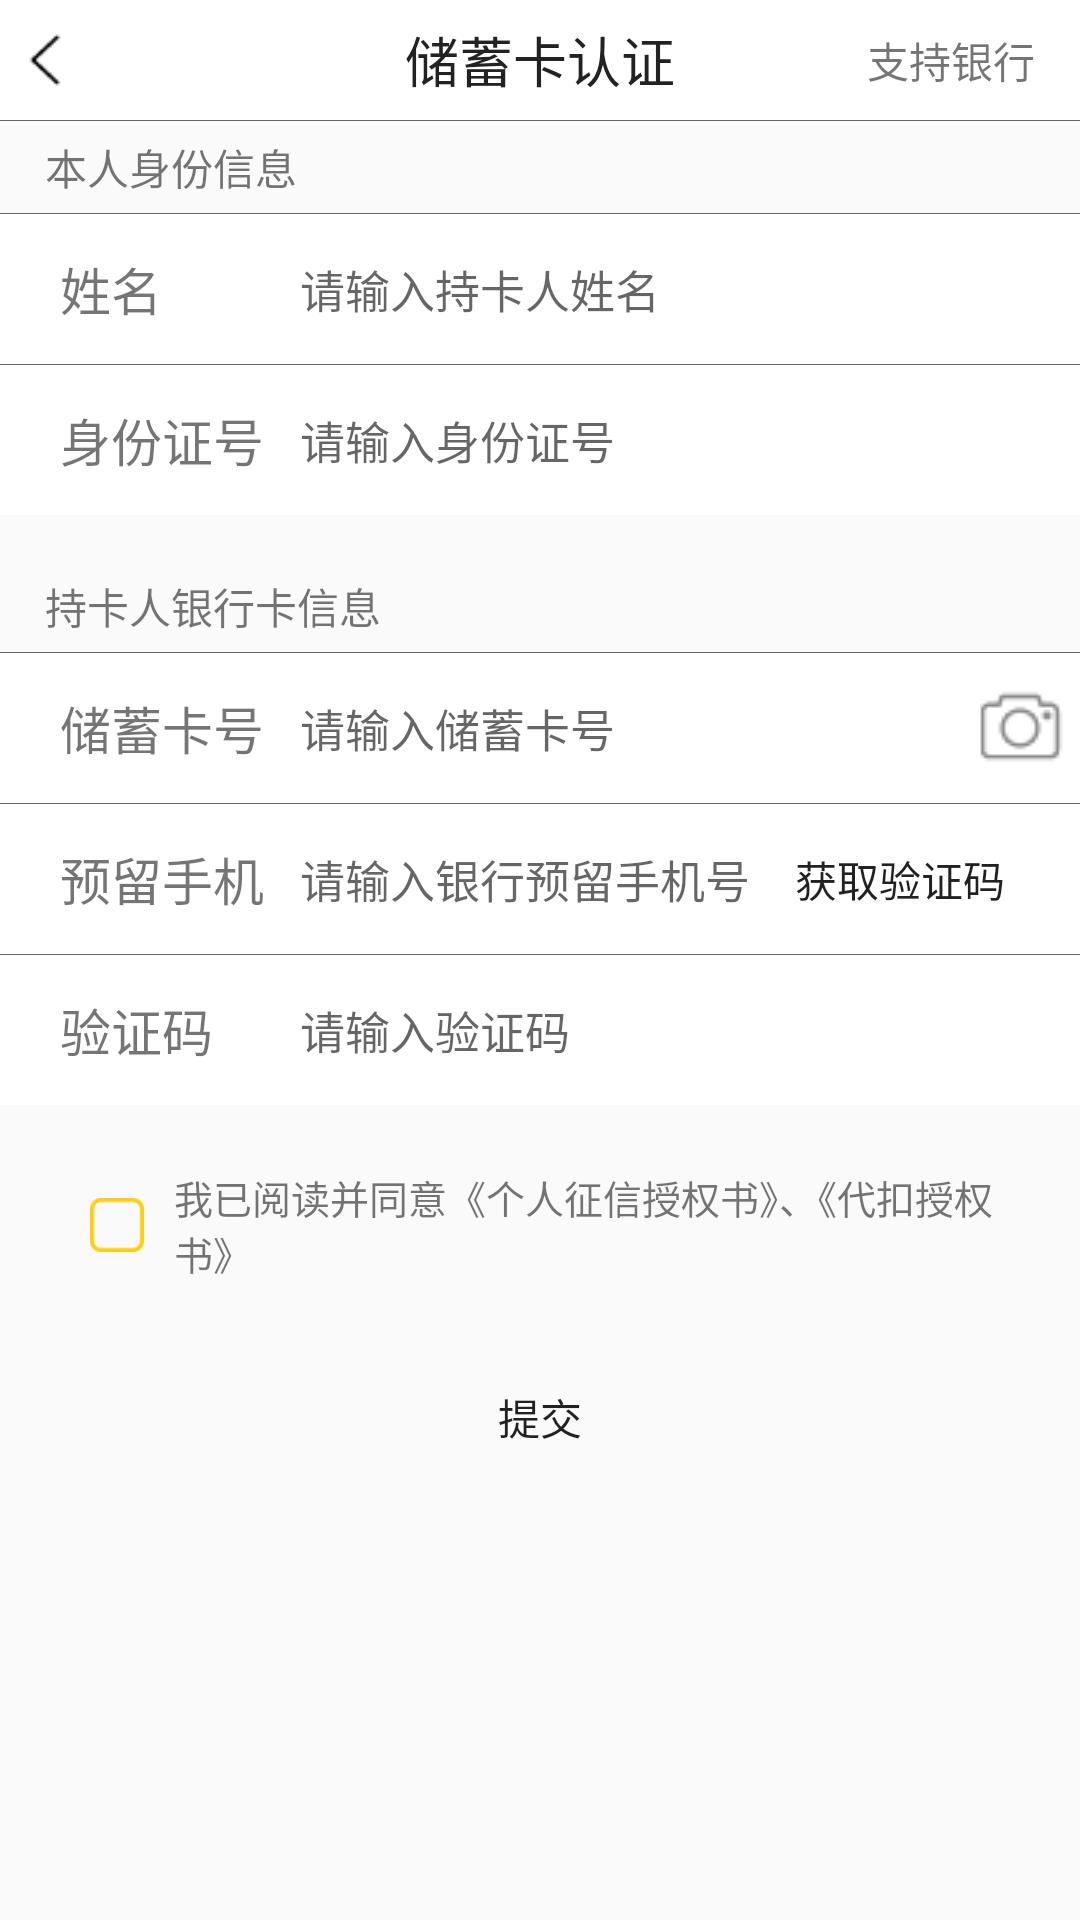

Icons on this 1080x1920 Android screen, each with the point to tap as (x=x, y=y):
camera: (x=1020, y=726)
to left: (x=45, y=60)
unchecked: (x=117, y=1225)
